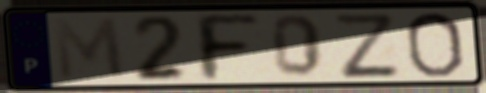0: (268, 12, 325, 81)
2: (128, 13, 190, 84)
F: (189, 12, 264, 84)
M: (51, 15, 130, 83)
O: (402, 10, 466, 80)
Z: (329, 11, 404, 80)
